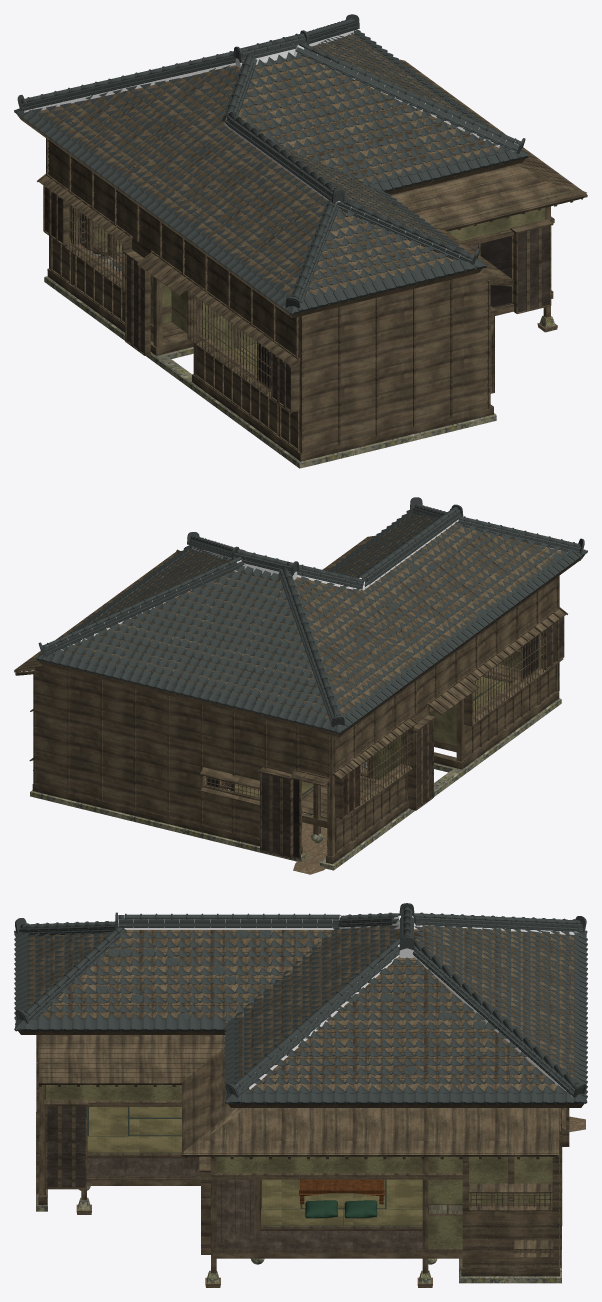
File: house.glb
3 views of the same model, one above another, from view 1: azimuth 30°, elevation 25°; view 2: azimuth 150°, elevation 25°; view 3: azimuth 270°, elevation 25° (orthographic). The views are drawn at different scales.
Visible parts, largest first — view 1: House_rooftile_屋根瓦, House_wall_board_下見板張, House_家, House_mud_wall_土壁, House_base_土台, House_shutter_case_戸袋; view 2: House_wall_board_下見板張, House_rooftile_屋根瓦, House_家, House_base_土台, House_mud_wall_土壁, House_tatami(floow_mat)_畳, House_shutter_case_戸袋; view 3: House_家, House_rooftile_屋根瓦, House_wall_board_下見板張, House_mud_wall_土壁, House_tatami(floow_mat)_畳, House_interior_内装, House_base_土台.
Boxes of the visible parts, x1=… form: House_rooftile_屋根瓦: x1=14, y1=14, x2=529, y2=315; House_wall_board_下見板張: x1=37, y1=138, x2=586, y2=461; House_家: x1=17, y1=34, x2=587, y2=453; House_mud_wall_土壁: x1=49, y1=205, x2=550, y2=452; House_base_土台: x1=44, y1=250, x2=557, y2=468; House_shutter_case_戸袋: x1=44, y1=187, x2=62, y2=242; House_wall_board_下見板張: x1=29, y1=549, x2=567, y2=864; House_rooftile_屋根瓦: x1=35, y1=497, x2=587, y2=733; House_家: x1=14, y1=514, x2=584, y2=859; House_base_土台: x1=30, y1=698, x2=561, y2=874; House_mud_wall_土壁: x1=203, y1=633, x2=557, y2=856; House_tatami(floow_mat)_畳: x1=235, y1=676, x2=510, y2=797; House_shutter_case_戸袋: x1=343, y1=766, x2=359, y2=816; House_家: x1=18, y1=925, x2=583, y2=1258; House_rooftile_屋根瓦: x1=14, y1=903, x2=587, y2=1104; House_wall_board_下見板張: x1=36, y1=1035, x2=569, y2=1276; House_mud_wall_土壁: x1=39, y1=1085, x2=552, y2=1273; House_tatami(floow_mat)_畳: x1=87, y1=1107, x2=422, y2=1226; House_interior_内装: x1=299, y1=1179, x2=384, y2=1218; House_base_土台: x1=36, y1=1112, x2=585, y2=1287.
Size of the model in its own units: 9.76 by 6.51 by 12.41.
28 materials, 17 textured.
